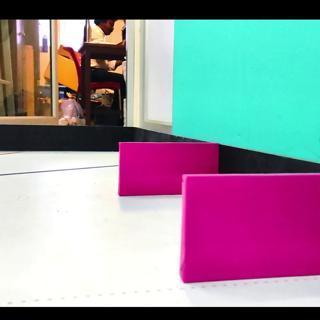xparking: (183, 176, 307, 279), (121, 143, 183, 195)
